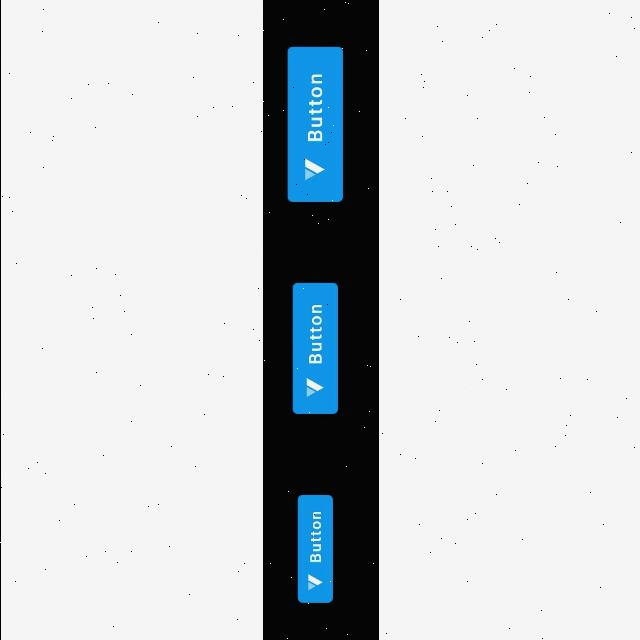QLabel: (306, 72, 322, 144), (308, 302, 322, 364), (309, 508, 321, 564)
VBtn: (286, 45, 344, 203), (290, 281, 338, 415), (295, 494, 333, 604)
VIcon: (303, 159, 323, 181), (306, 377, 322, 397), (306, 574, 322, 590)
